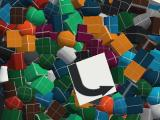Left: (67, 52, 117, 106)
